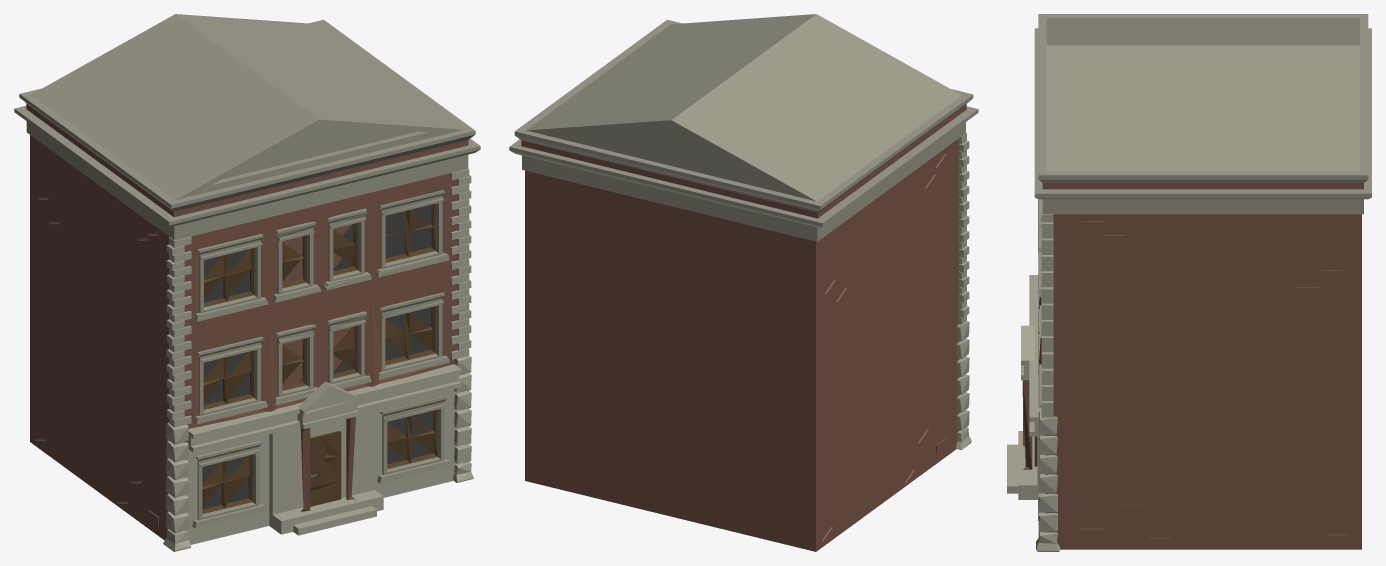
Rendered from town3b.glb.
3 views of the same model, side by side, from view 1: azimuth 30°, elevation 25°; view 2: azimuth 150°, elevation 25°; view 3: azimuth 270°, elevation 25° (orthographic). The views are drawn at different scales.
Parts seen in each view (by area): view 1: Building3_Big; view 2: Building3_Big; view 3: Building3_Big.
Part boxes in pixels (left/top/right/bottom): Building3_Big: left=14, top=14, right=480, bottom=551; Building3_Big: left=509, top=14, right=978, bottom=551; Building3_Big: left=1007, top=14, right=1371, bottom=551.
Bounding box in the file's own units: 4.71 × 5.68 × 4.39.
